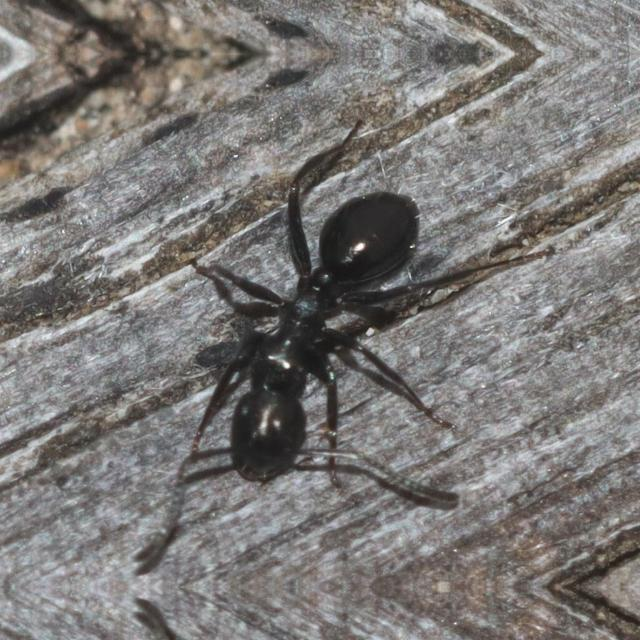Colobopsis: (153, 163, 449, 511)
